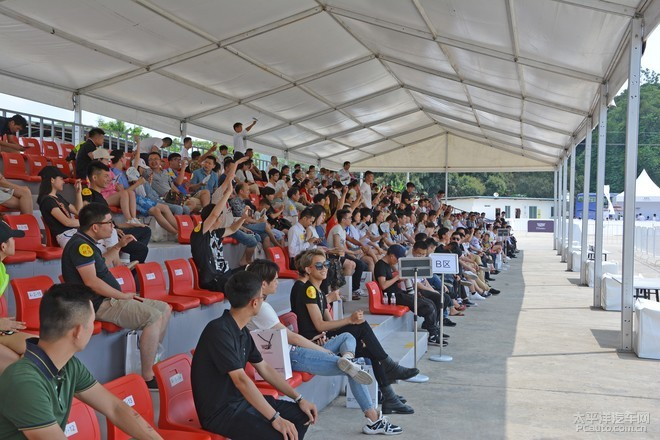other: (63, 200, 186, 397), (183, 267, 323, 440)
